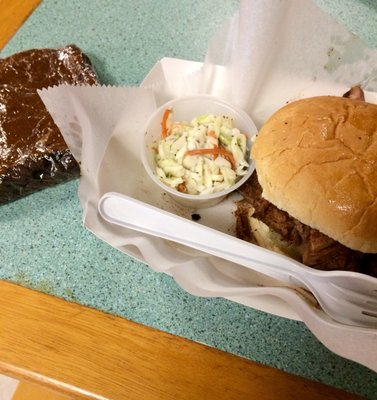soup: (234, 94, 377, 276)
sushi: (139, 95, 258, 208)
